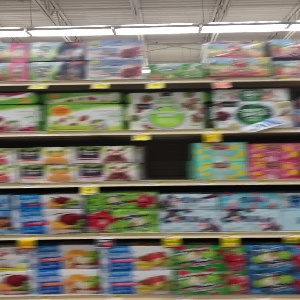void: (141, 137, 195, 180)
